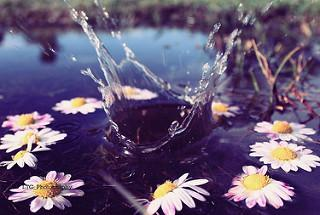daisy: (11, 167, 87, 214), (226, 164, 296, 210), (145, 172, 210, 215), (249, 141, 320, 173), (4, 127, 66, 154), (253, 121, 320, 144), (1, 111, 56, 131), (52, 98, 107, 116), (2, 150, 38, 172), (208, 101, 244, 119), (114, 87, 165, 99)
